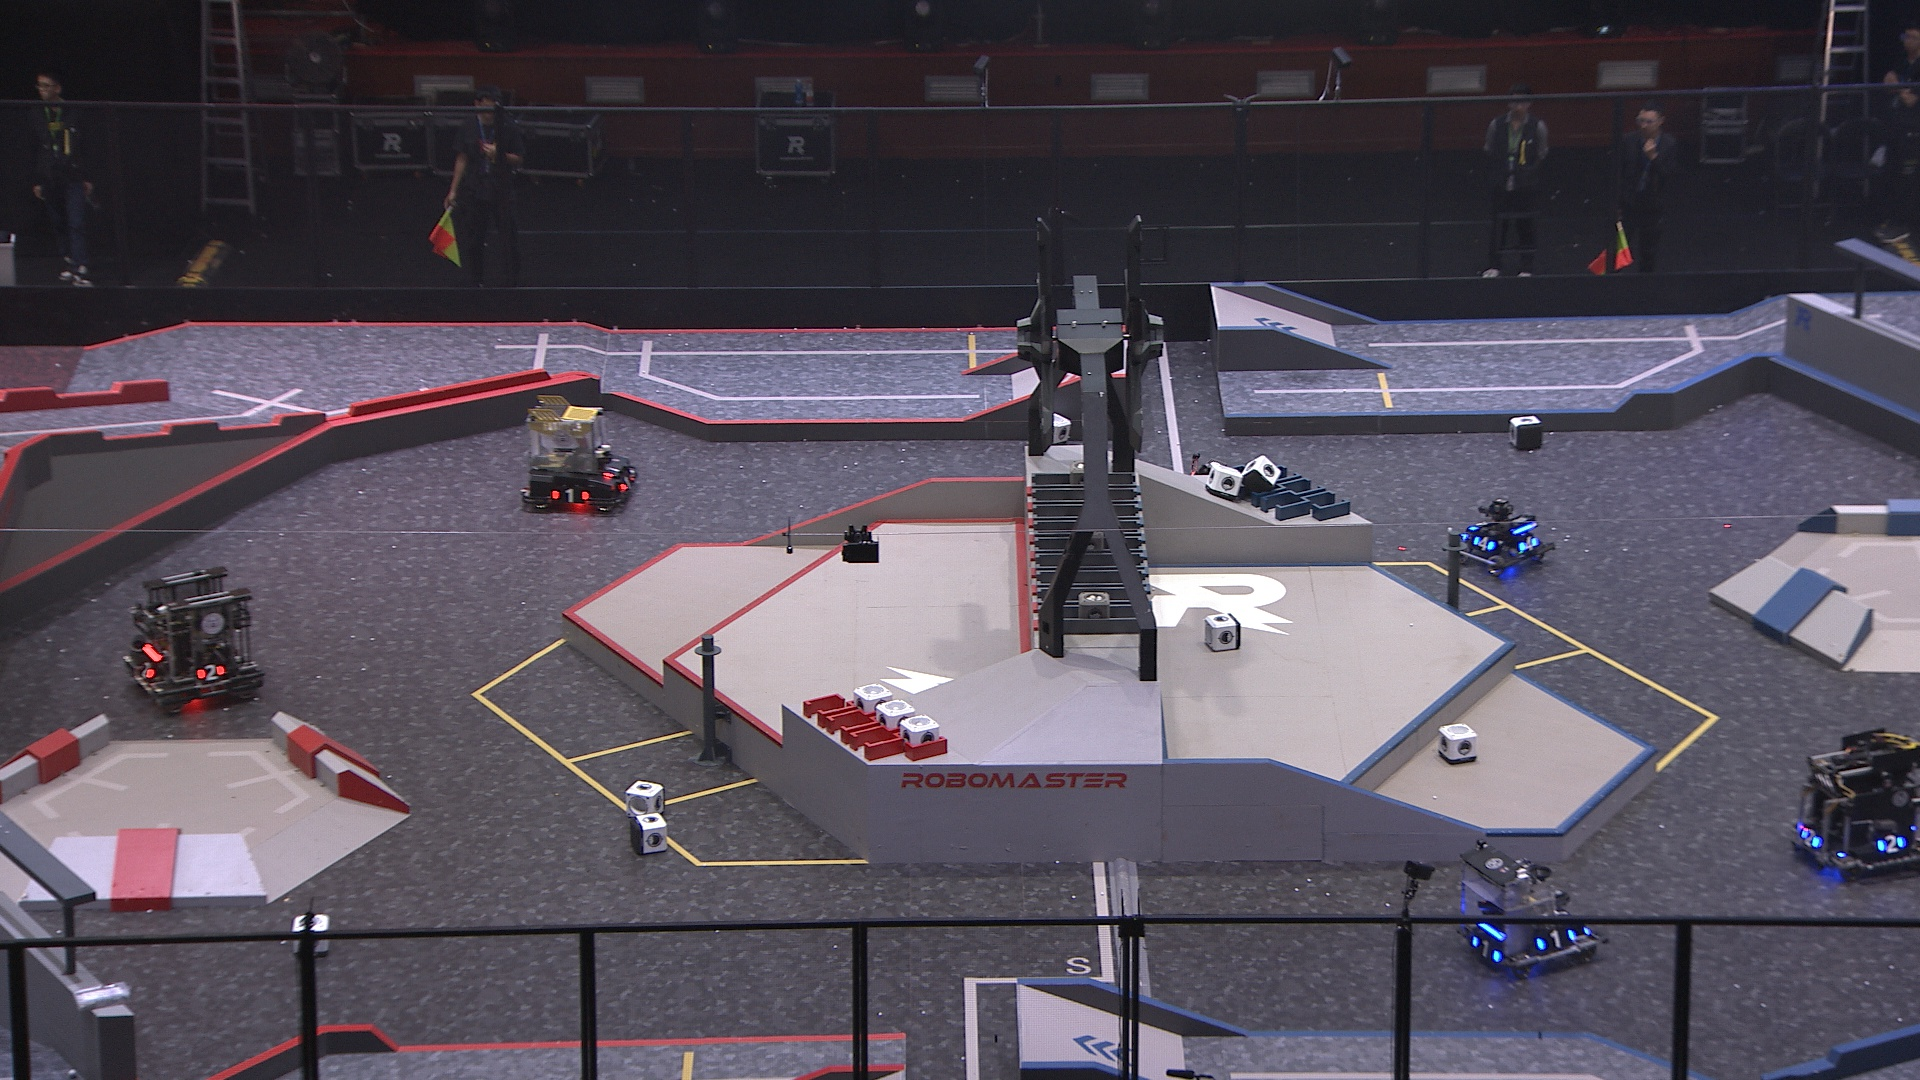armor: (1536, 928, 1575, 951), (1472, 936, 1501, 960), (550, 487, 588, 504), (195, 665, 228, 683), (1878, 833, 1905, 855), (136, 659, 158, 684), (1799, 827, 1821, 849), (1466, 518, 1491, 534), (1518, 534, 1539, 553), (1472, 537, 1495, 553), (604, 458, 622, 477), (621, 471, 636, 491)
car: (119, 564, 262, 711), (1789, 727, 1920, 884), (1455, 849, 1604, 978), (520, 394, 642, 520), (1458, 496, 1552, 578)
